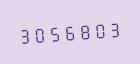eight: (77, 19, 91, 42)
five: (47, 21, 61, 44)
six: (62, 20, 76, 43)
three: (17, 23, 31, 46), (107, 17, 121, 40)
zero: (32, 22, 46, 45), (92, 18, 106, 41)
